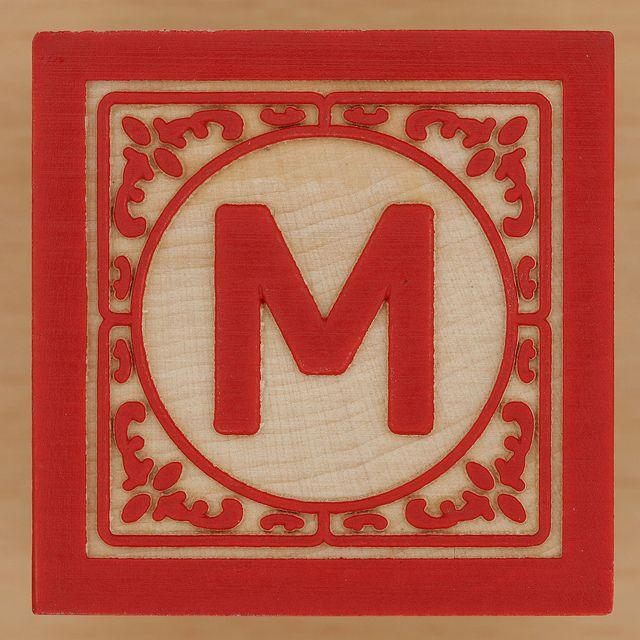M: (208, 192, 441, 449)
